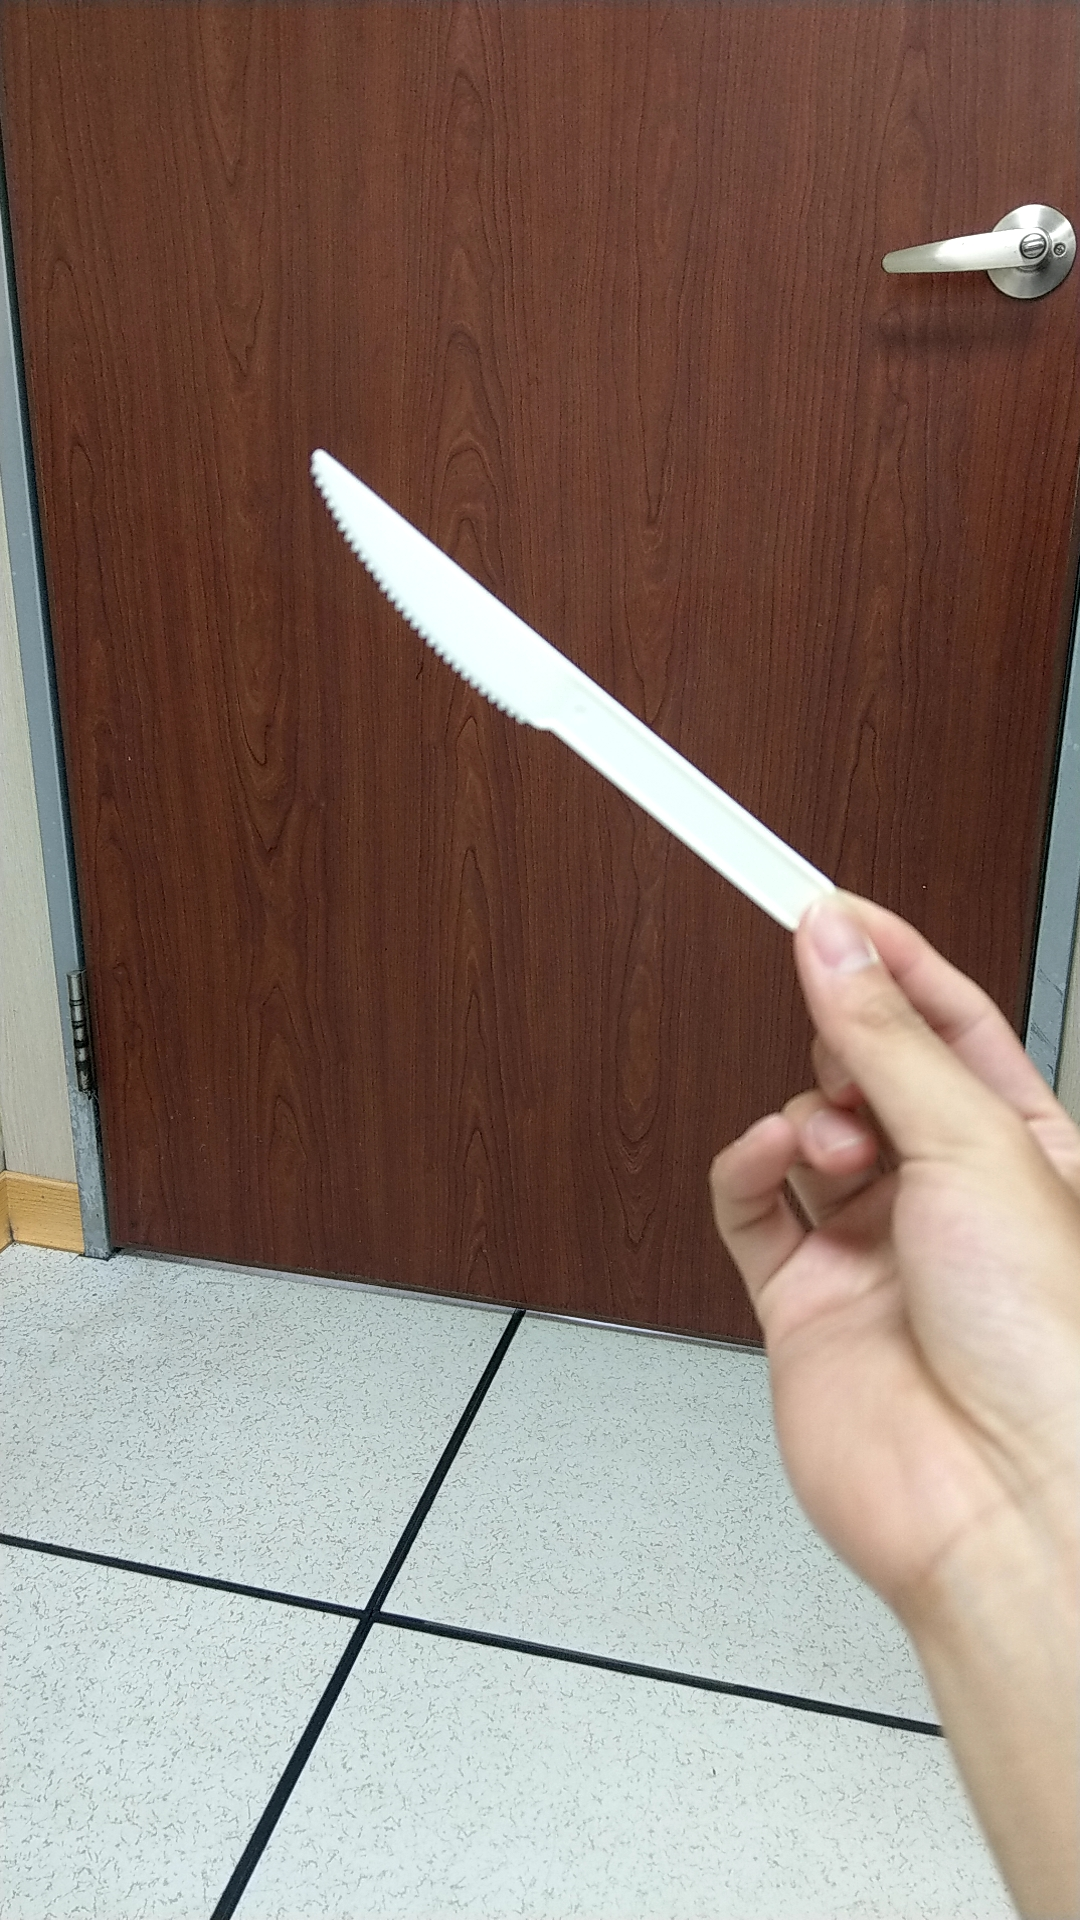knife: (286, 407, 804, 943)
